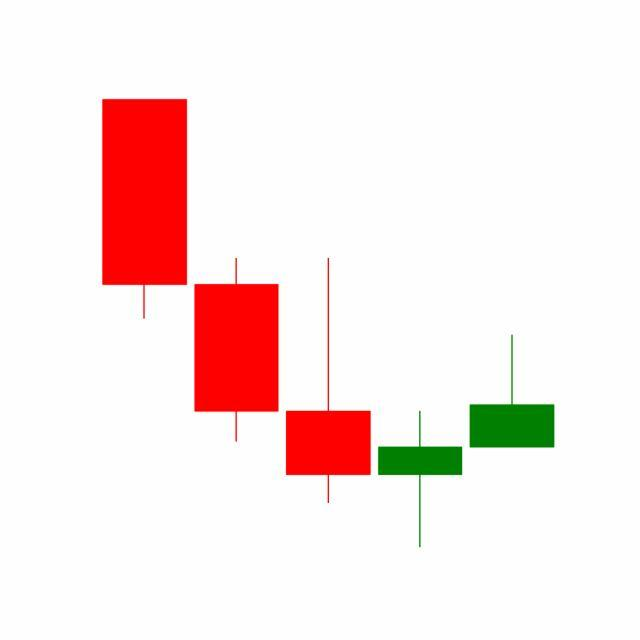Spinning Top: (374, 410, 468, 550)
